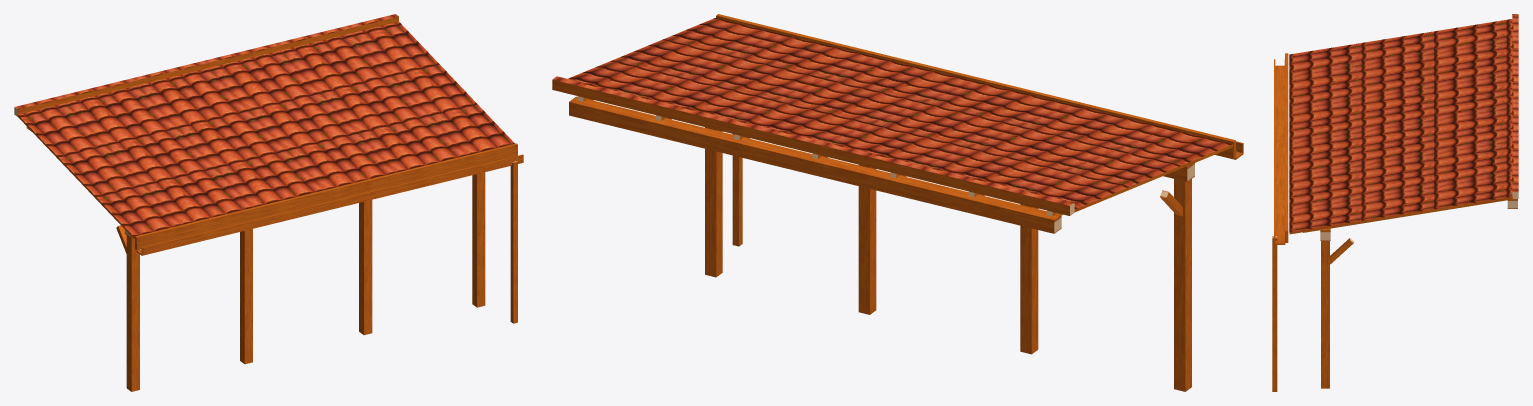
File: Roof_Porch_6x3.fbx
3 views of the same model, side by side, from view 1: azimuth 30°, elevation 25°; view 2: azimuth 150°, elevation 25°; view 3: azimuth 270°, elevation 25° (orthographic). The views are drawn at different scales.
Visible parts, largest first — view 1: Roof_Porch_6x3; view 2: Roof_Porch_6x3; view 3: Roof_Porch_6x3.
Boxes of the visible parts, x1,y1,x2,y2 form: Roof_Porch_6x3: [14, 14, 523, 391]; Roof_Porch_6x3: [552, 14, 1243, 391]; Roof_Porch_6x3: [1272, 14, 1518, 391].
Size of the model in its own units: 6.4 by 3.41 by 3.75.
